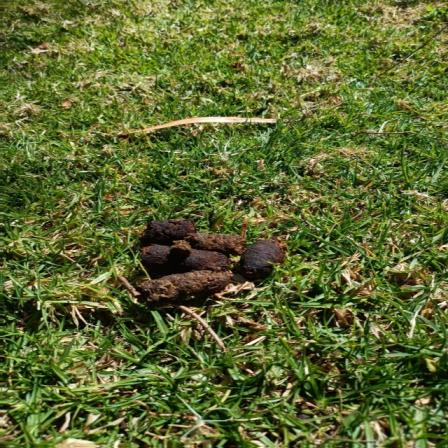dog-poop: (140, 204, 278, 304)
